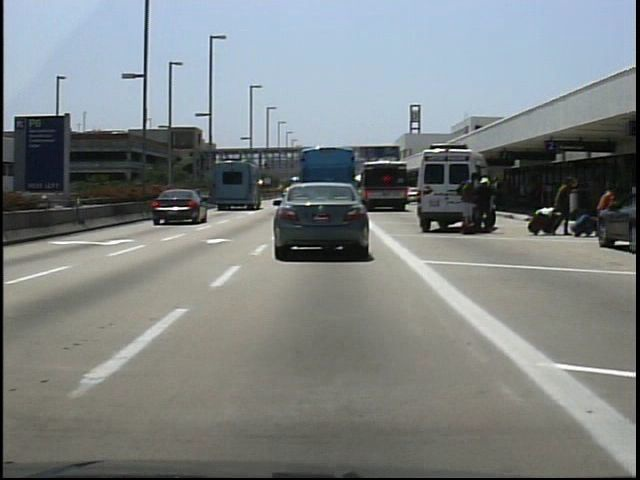person: (592, 181, 621, 246), (551, 168, 577, 238), (456, 168, 481, 233), (475, 174, 498, 231)
